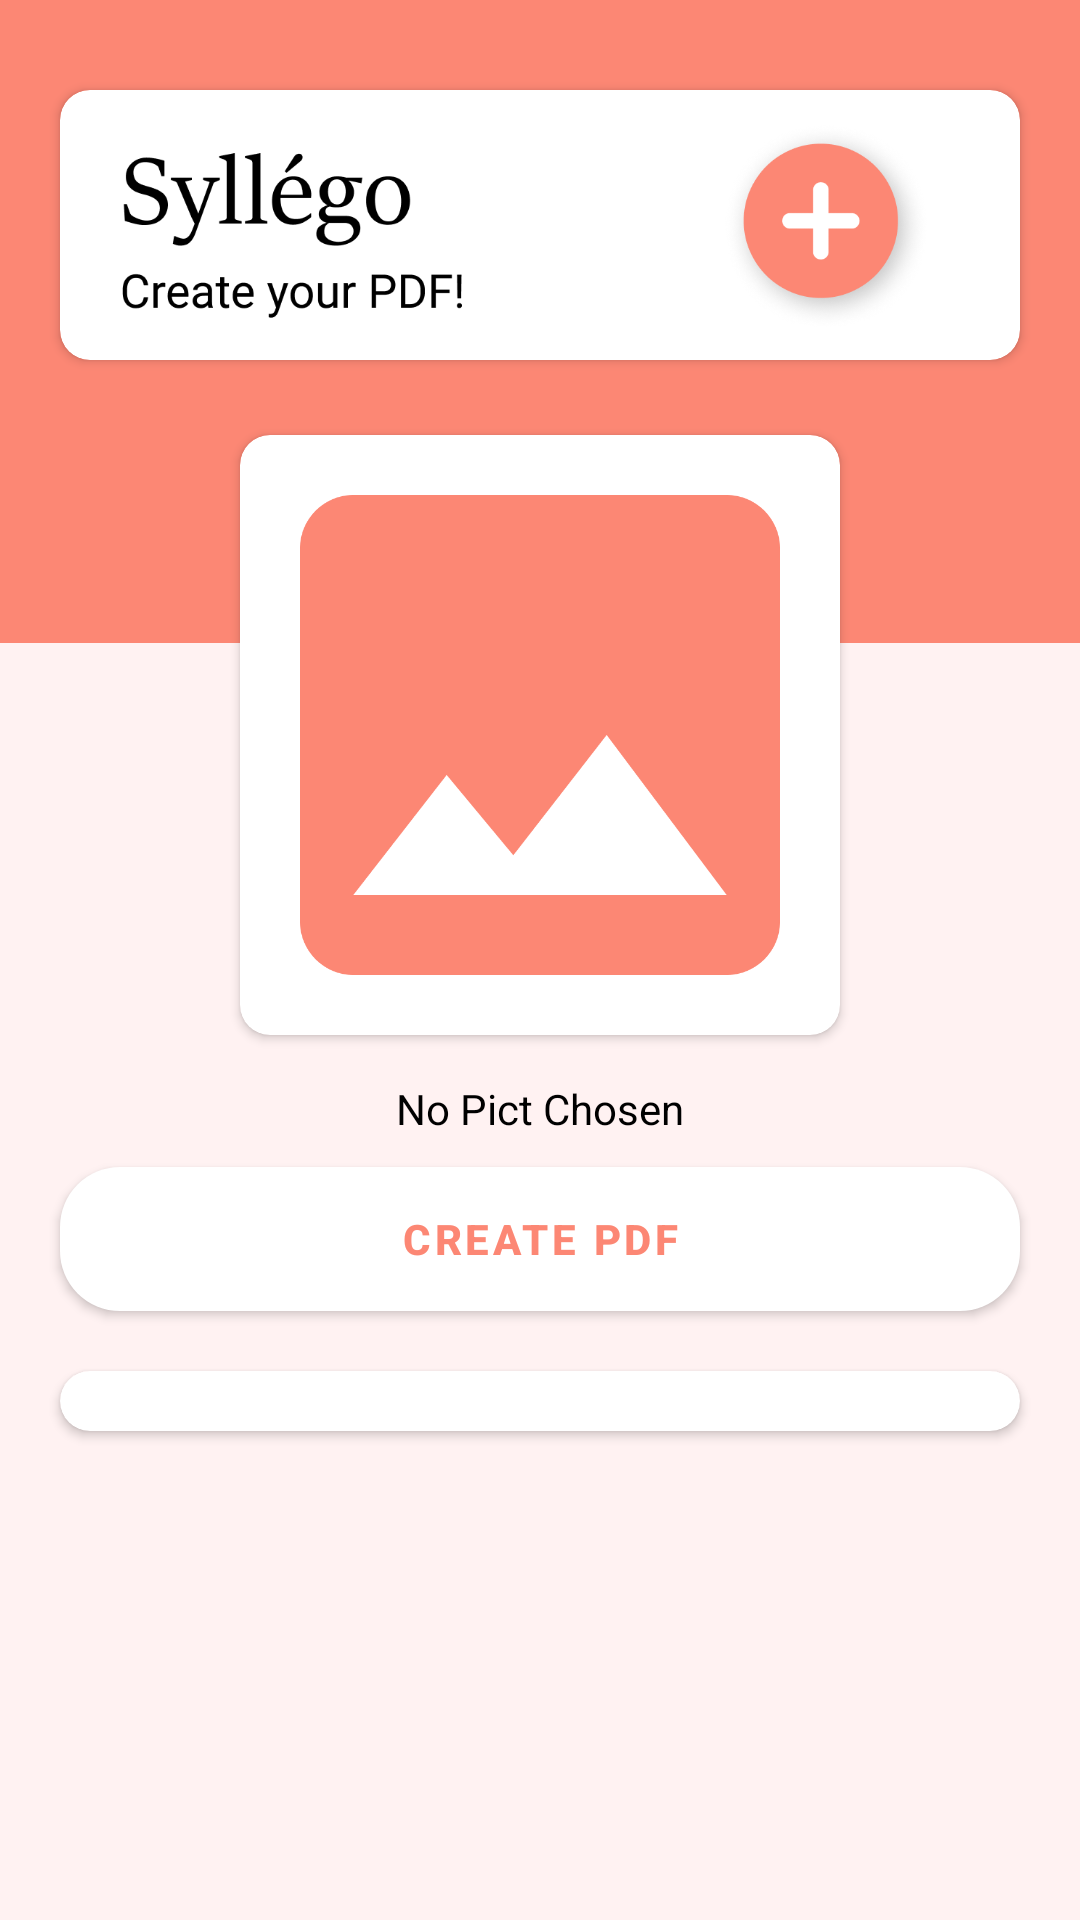

Where icons sit on this 1080w x 1920h app screen, as Rect(x1, y1, x2, y2):
tambah: Rect(743, 143, 906, 306)
